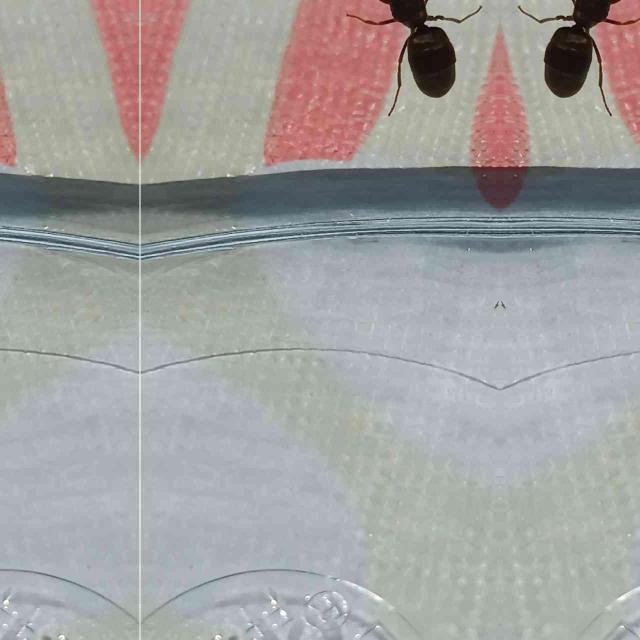Lasius: (344, 0, 482, 116), (518, 0, 640, 116)
